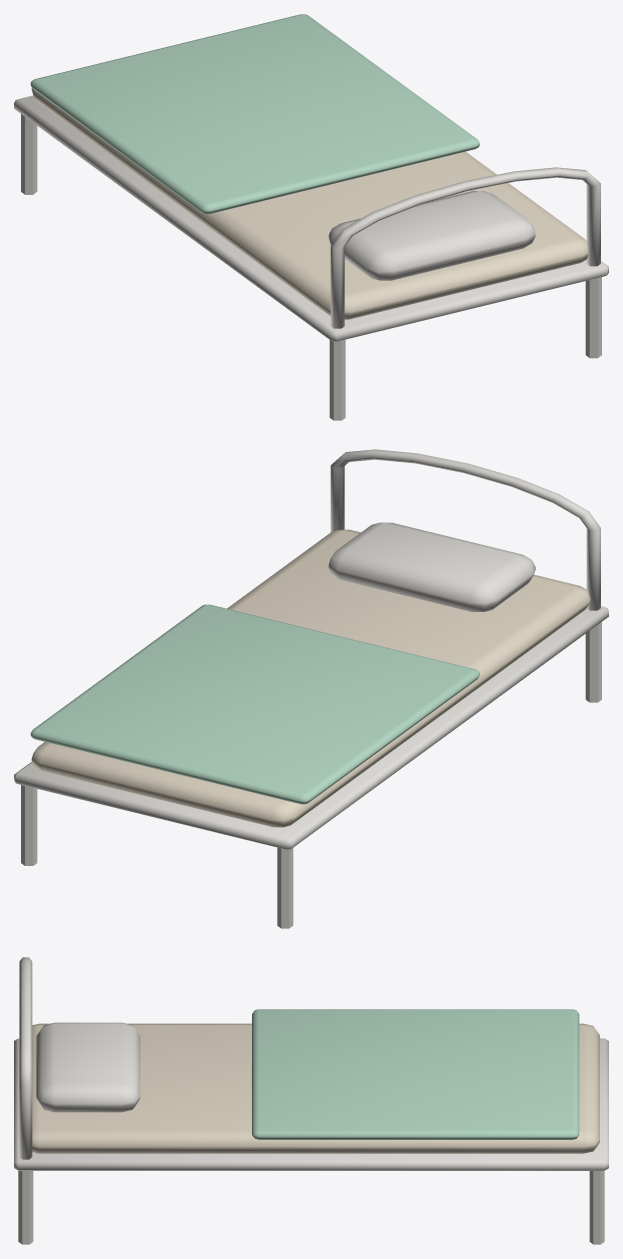
File: infirmary_cot.glb
3 views of the same model, one above another, from view 1: azimuth 30°, elevation 25°; view 2: azimuth 150°, elevation 25°; view 3: azimuth 270°, elevation 25° (orthographic). The views are drawn at different scales.
Parts seen in each view (by area): view 1: infirmary_cot; view 2: infirmary_cot; view 3: infirmary_cot.
Part boxes in pixels (<box>): infirmary_cot: <box>14,14,608,420</box>; infirmary_cot: <box>14,449,608,928</box>; infirmary_cot: <box>14,957,608,1244</box>.
Size of what is drawn, in the model's own units: 1 by 0.7 by 2.
